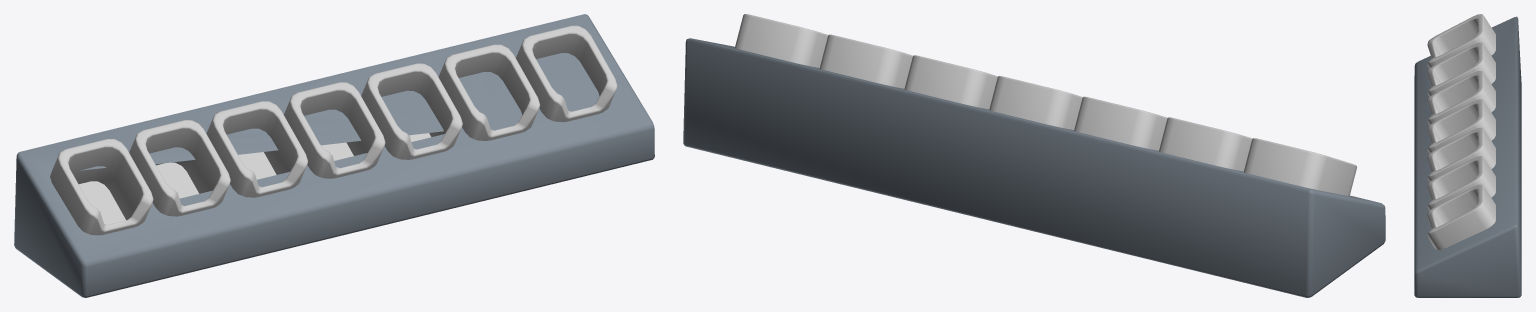
File: Vegetable-Tubs.fbx
The picture shows the model from 3 angles, left to right: view 1: azimuth 30°, elevation 25°; view 2: azimuth 150°, elevation 25°; view 3: azimuth 270°, elevation 25°; orthographic projection. The views are drawn at different scales.
Visible parts, largest first — view 1: Vegetable-Tubs; view 2: Vegetable-Tubs; view 3: Vegetable-Tubs.
Part boxes in pixels (x1=…): Vegetable-Tubs: x1=14, y1=14, x2=654, y2=297; Vegetable-Tubs: x1=683, y1=14, x2=1385, y2=297; Vegetable-Tubs: x1=1414, y1=14, x2=1521, y2=297.
Bounding box in the file's own units: 2 × 0.3701 × 0.432.
